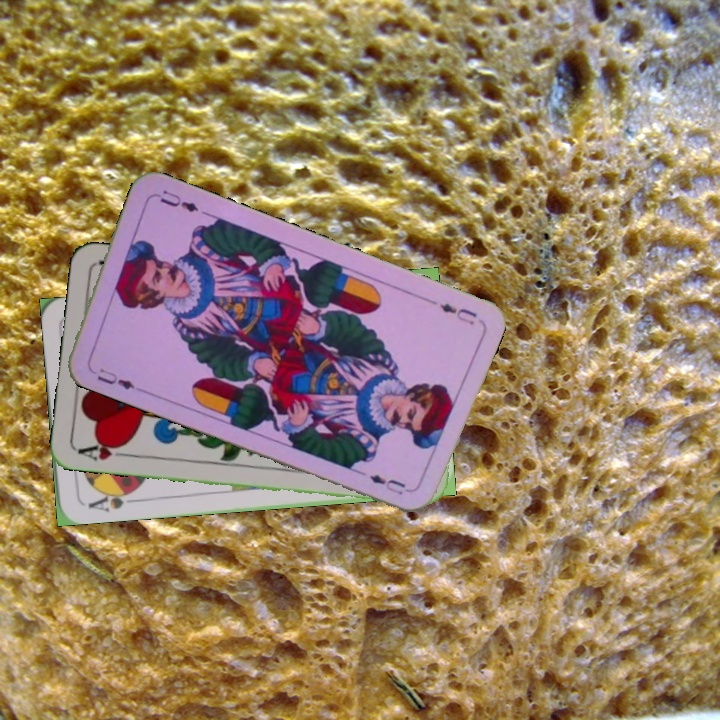EU: (85, 364, 142, 392), (435, 299, 479, 328)
HA: (74, 437, 133, 464)
SA: (84, 485, 139, 514)
